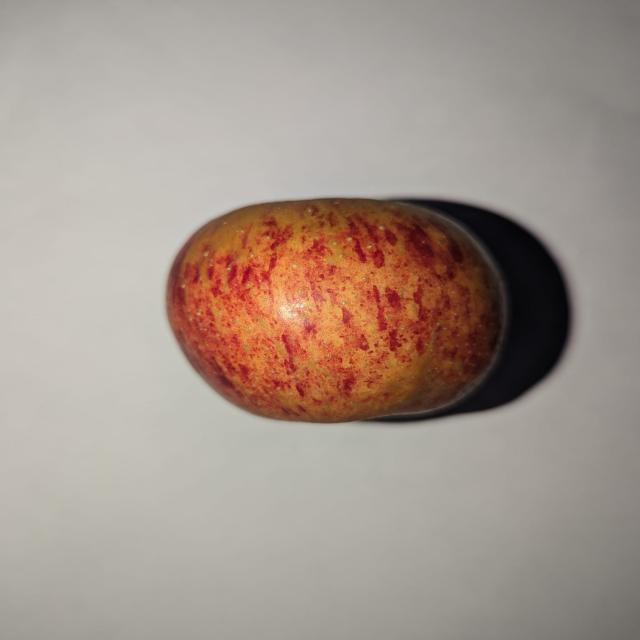fresh_apple: (167, 198, 506, 424)
